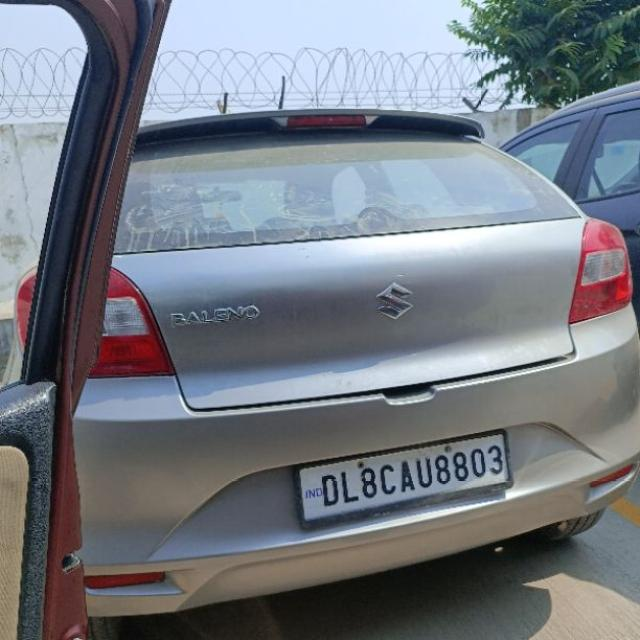license_plate: (292, 428, 513, 530)
